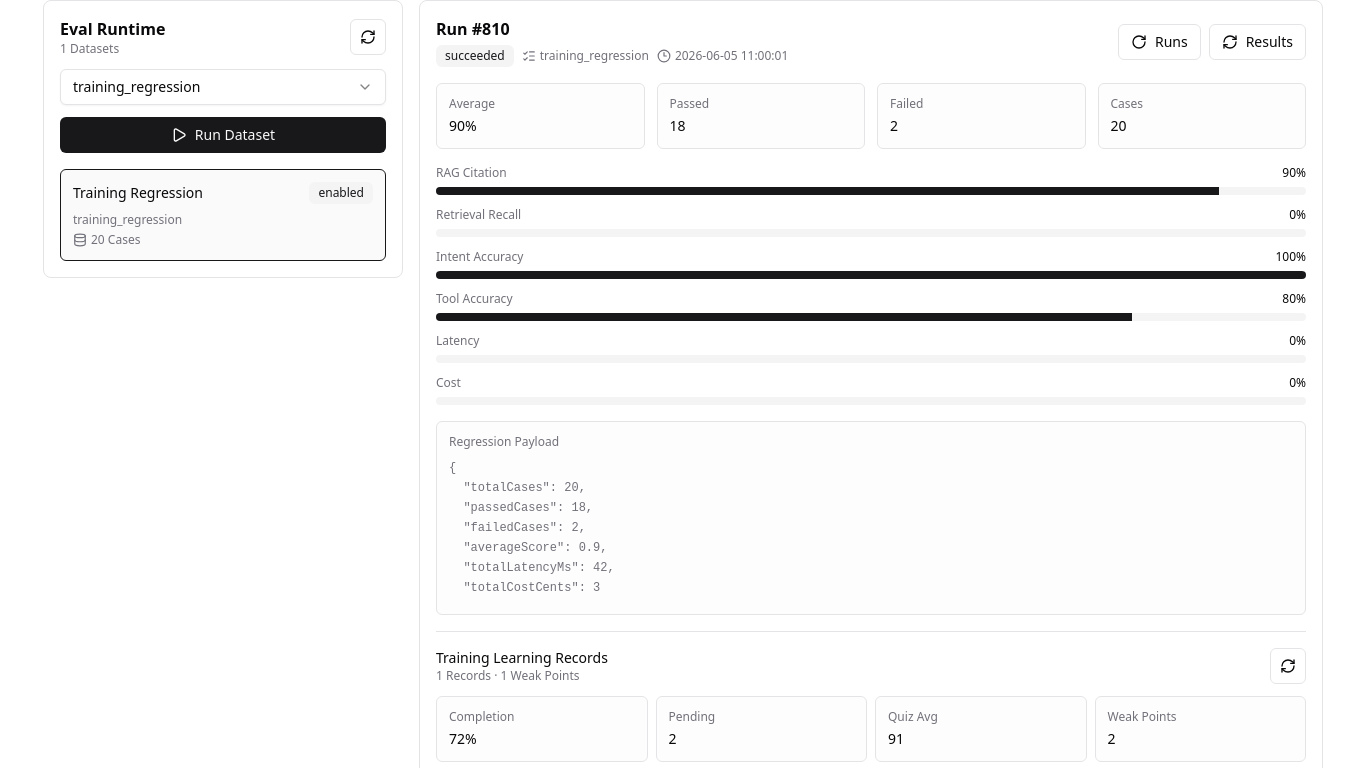
Test: AiEvalsPage › runs the selected eval dataset and reloads the report results
Check: the text "Training Regression" is shown, box 73,183 -> 203,203
Click the button "Run Dataset" at (223,135), box 60,117 -> 386,153
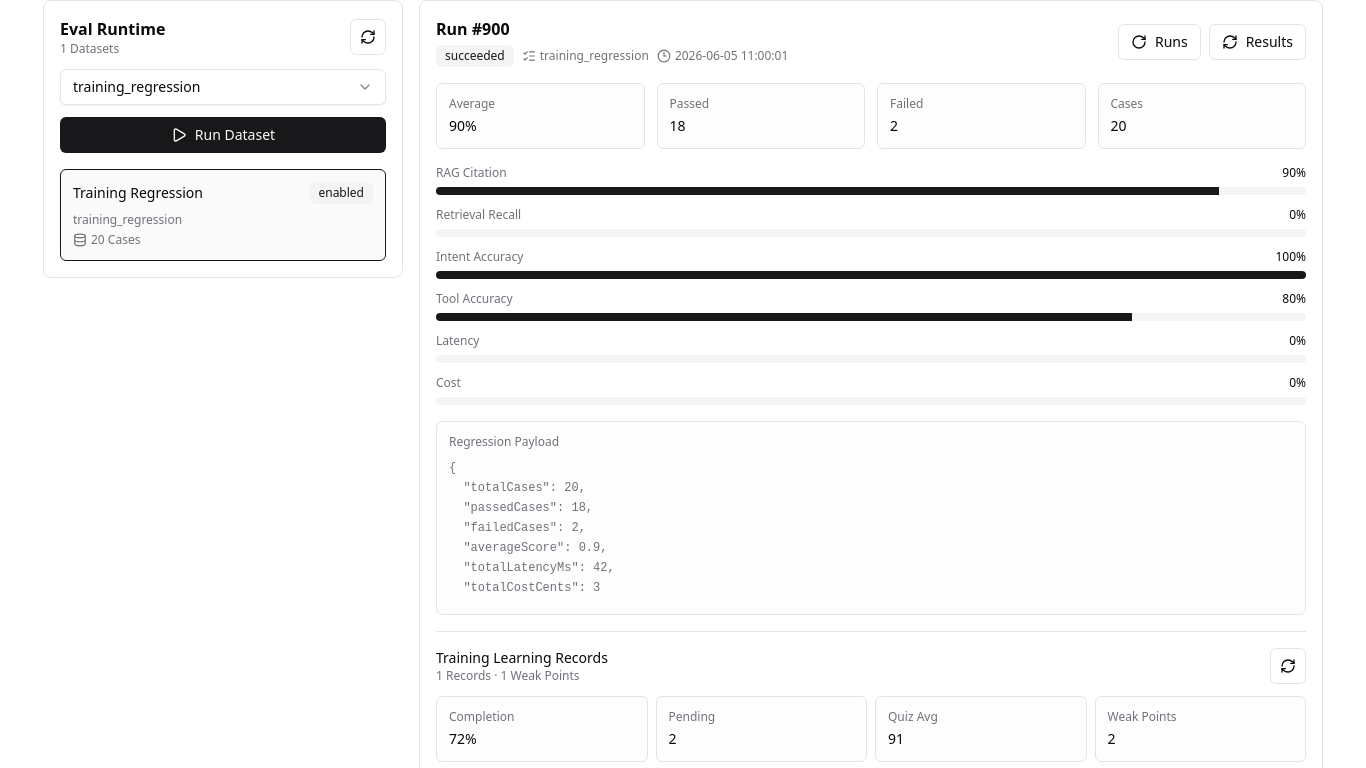
Check: the heading "Run #900" is shown, box 436,18 -> 510,40
